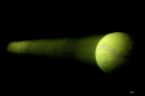tennis ball: (94, 31, 133, 73)
